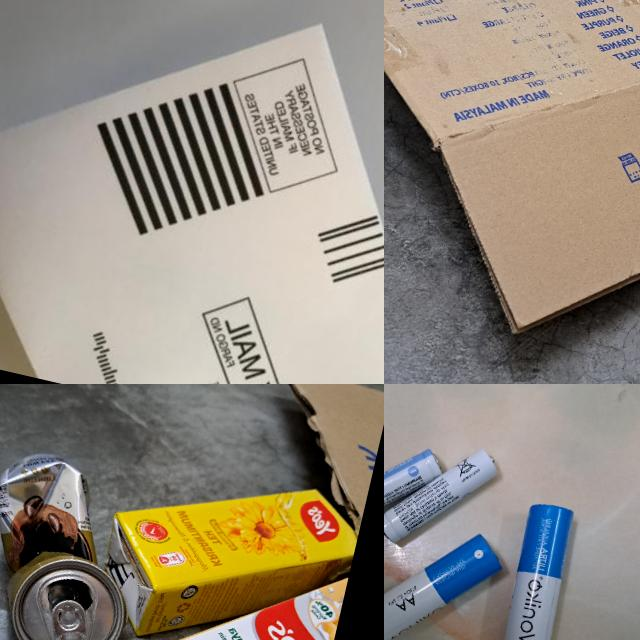aba de lata: (44, 596, 91, 640)
bateria: (384, 510, 510, 640), (384, 426, 503, 560), (494, 498, 583, 640), (384, 426, 445, 551)
caixinha: (87, 445, 366, 640), (97, 532, 348, 640)
lata: (0, 443, 157, 640)
papel: (0, 0, 384, 384)
papelão: (384, 0, 640, 384), (240, 384, 384, 542)
